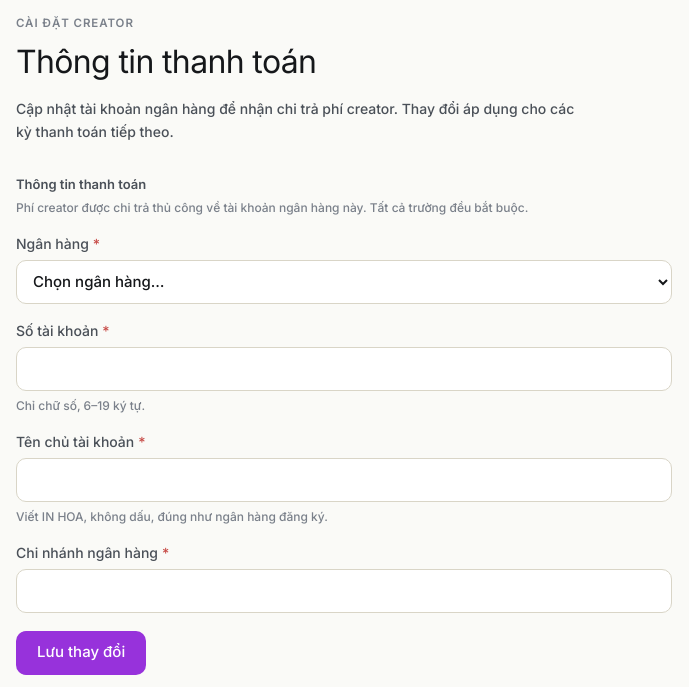
Test case: PayoutSettingsPage › blocks save when fields are empty and surfaces a validation error
Click the button with test id "payout-settings-save". click: (81, 652)
box: [16,630,146,674]
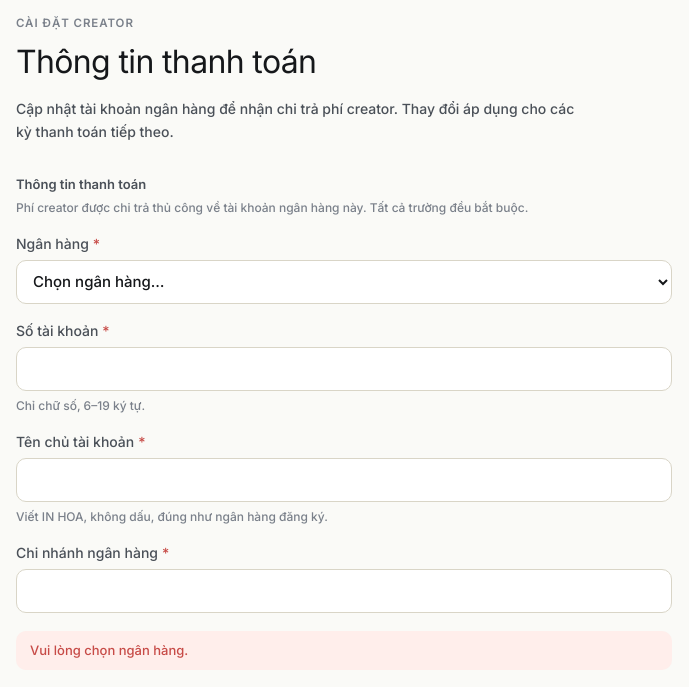
Expected: the message with test id "payout-settings-error" shows "ngân hàng", [30,642,188,658]
